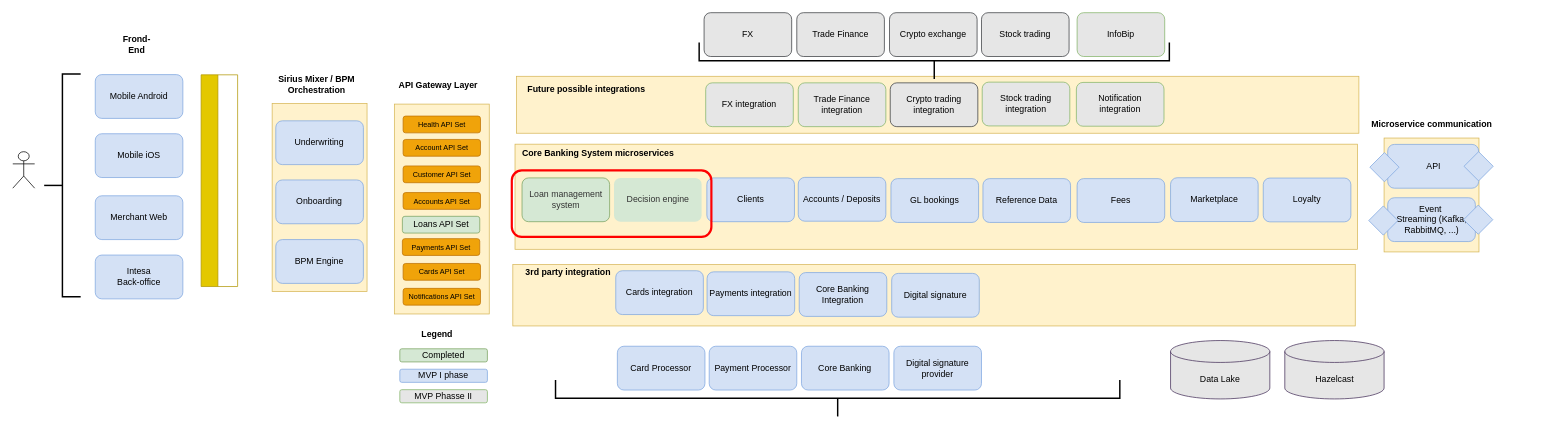
The diagram is 1558 pixels wide and 430 high, and some of its shapes have lost their labels. The centre of each missing label's shape, as x and y in pixels:
"Actor" belongs at point (23, 169).
"Authentication" belongs at point (219, 180).
